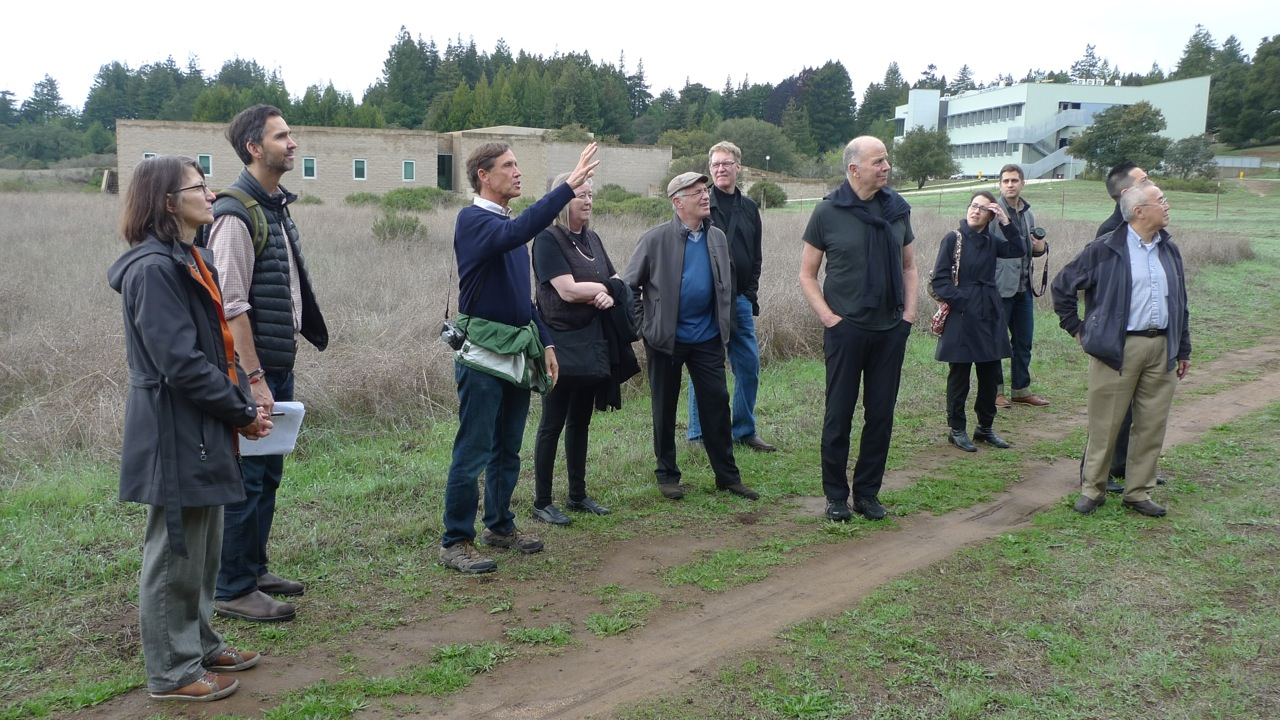noepi: (121, 150, 269, 706), (217, 102, 317, 624), (801, 137, 926, 520), (1062, 180, 1186, 524), (633, 173, 757, 507), (448, 139, 545, 560), (534, 163, 631, 522), (710, 138, 786, 451), (937, 192, 1020, 453), (995, 167, 1064, 372)
